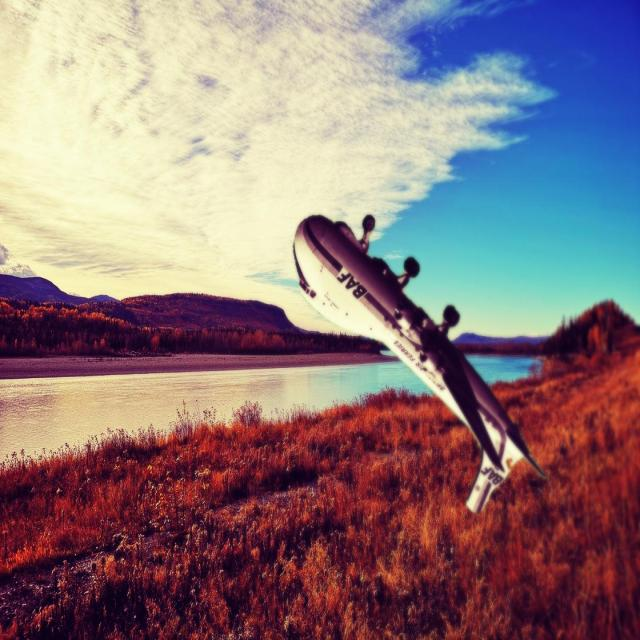airplane: (292, 212, 547, 514)
